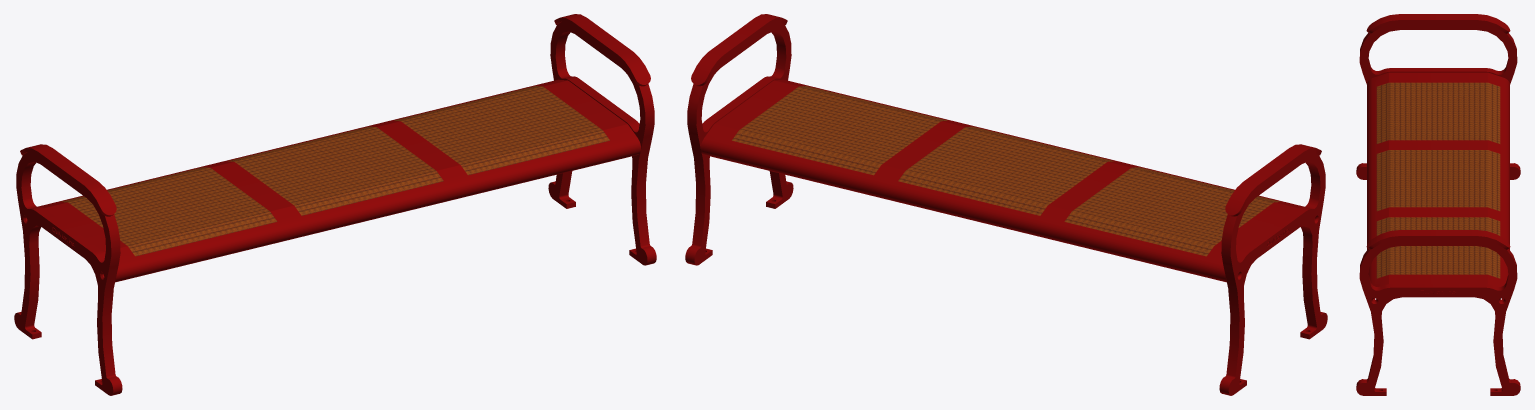
The picture shows the model from 3 angles, left to right: view 1: azimuth 30°, elevation 25°; view 2: azimuth 150°, elevation 25°; view 3: azimuth 270°, elevation 25°; orthographic projection. The views are drawn at different scales.
Parts seen in each view (by area): view 1: mesh50_mesh50-geometry, mesh1_mesh1-geometry, mesh62_mesh62-geometry, mesh63_mesh63-geometry, mesh61_mesh61-geometry; view 2: mesh50_mesh50-geometry, mesh1_mesh1-geometry, mesh62_mesh62-geometry, mesh63_mesh63-geometry, mesh61_mesh61-geometry; view 3: mesh1_mesh1-geometry, mesh50_mesh50-geometry, mesh61_mesh61-geometry, mesh62_mesh62-geometry, mesh63_mesh63-geometry.
Part boxes in pixels (left/top/right/bottom): mesh50_mesh50-geometry: left=38, top=79, right=640, bottom=282; mesh1_mesh1-geometry: left=14, top=14, right=656, bottom=395; mesh62_mesh62-geometry: left=228, top=126, right=443, bottom=215; mesh63_mesh63-geometry: left=394, top=86, right=609, bottom=175; mesh61_mesh61-geometry: left=61, top=167, right=277, bottom=256; mesh50_mesh50-geometry: left=701, top=79, right=1303, bottom=282; mesh1_mesh1-geometry: left=685, top=14, right=1327, bottom=395; mesh62_mesh62-geometry: left=898, top=126, right=1113, bottom=215; mesh63_mesh63-geometry: left=732, top=86, right=947, bottom=175; mesh61_mesh61-geometry: left=1064, top=167, right=1280, bottom=256; mesh1_mesh1-geometry: left=1356, top=14, right=1520, bottom=395; mesh50_mesh50-geometry: left=1367, top=72, right=1509, bottom=299; mesh61_mesh61-geometry: left=1376, top=82, right=1500, bottom=143; mesh62_mesh62-geometry: left=1376, top=150, right=1500, bottom=211; mesh63_mesh63-geometry: left=1376, top=217, right=1500, bottom=278.
Bounding box in the file's own units: 0.9082 × 0.3075 × 0.2839.
